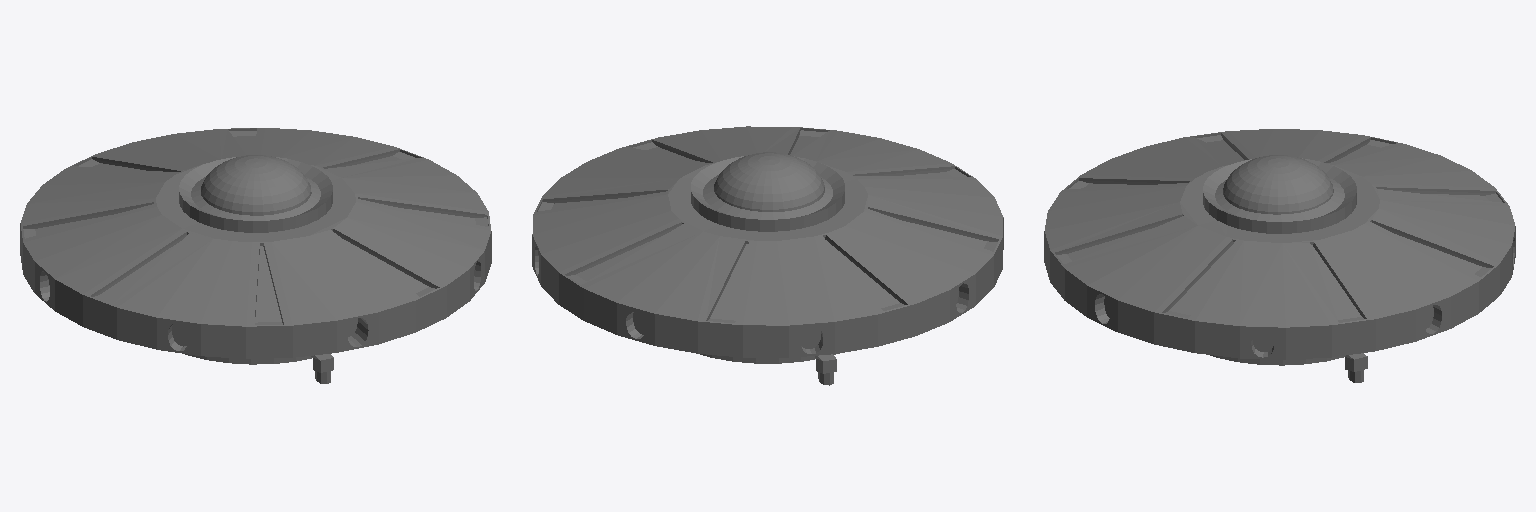
URDF robot description (new_uav):
<?xml version="1.0" ?>

<robot name="new_uav">

  <link name="base_link">

    <inertial>
      <origin rpy="0 0 0" xyz="0 0 0"/>
      <mass value="0.027"/>
      <inertia ixx="1.4e-5" ixy="0.0" ixz="0.0" iyy="1.4e-5" iyz="0.0" izz="2.17e-5"/>
    </inertial>

    <visual>
      <origin rpy="0 0 1.571" xyz="0 0 0"/>
      <geometry>
        <mesh filename="./new_uav.dae" scale="0.1 0.1 0.1"/>
      </geometry>
      <material name="grey">
        <color rgba=".5 .5 .5 1"/>
      </material>
    </visual>

    <collision>
      <origin rpy="0 0 0" xyz="0 0 0"/>
      <geometry>
        <box size="0.09 0.09 0.02"/>
      </geometry>
    </collision>

  </link>

  <link name="prop1_link">
    <inertial>
      <origin rpy="0 0 0" xyz="0.028 0.028 0"/>
      <mass value="0"/>
      <inertia ixx="0" ixy="0" ixz="0" iyy="0" iyz="0" izz="0"/>
    </inertial>
  </link>
  <joint name="prop1_joint" type="fixed">
    <parent link="base_link"/>
    <child link="prop1_link"/>
  </joint>

  <link name="prop2_link">
    <inertial>
      <origin rpy="0 0 0" xyz="-0.028 -0.028 0"/>
      <mass value="0"/>
      <inertia ixx="0" ixy="0" ixz="0" iyy="0" iyz="0" izz="0"/>
    </inertial>
  </link>
  <joint name="prop2_joint" type="fixed">
    <parent link="base_link"/>
    <child link="prop2_link"/>
  </joint>

  <link name="prop3_link">
    <inertial>
      <origin rpy="0 0 0" xyz="-0.028 0.028 0"/>
      <mass value="0"/>
      <inertia ixx="0" ixy="0" ixz="0" iyy="0" iyz="0" izz="0"/>
    </inertial>
  </link>
  <joint name="prop3_joint" type="fixed">
    <parent link="base_link"/>
    <child link="prop3_link"/>
  </joint>

  <link name="prop4_link">
    <inertial>
      <origin rpy="0 0 0" xyz="0.028 -0.028 0"/>
      <mass value="0"/>
      <inertia ixx="0" ixy="0" ixz="0" iyy="0" iyz="0" izz="0"/>
    </inertial>
  </link>
  <joint name="prop4_joint" type="fixed">
    <parent link="base_link"/>
    <child link="prop4_link"/>
  </joint>

  <link name="center_of_mass_link">
    <inertial>
      <origin rpy="0 0 0" xyz="0 0 0"/>
      <mass value="0"/>
      <inertia ixx="0" ixy="0" ixz="0" iyy="0" iyz="0" izz="0"/>
    </inertial>
  </link>
  <joint name="center_of_mass_joint" type="fixed">
    <parent link="base_link"/>
    <child link="center_of_mass_link"/>
  </joint>

</robot>

--- What the picture shows (computed from the rendered views, not written in the file) ---
Views: 3 orthographic renders of the robot side by side, from view 1: azimuth 30°, elevation 25°; view 2: azimuth 150°, elevation 25°; view 3: azimuth 270°, elevation 25°.
Robot: new_uav — 6 links, 5 joints (5 fixed); root link base_link; default pose: all joints at 0.
Links seen in each view (by area): view 1: base_link; view 2: base_link; view 3: base_link.
Link boxes in pixels (box(x1,y1,x2,y2)): base_link: box(20, 128, 491, 383); base_link: box(532, 126, 1003, 385); base_link: box(1044, 129, 1515, 382).
Bounding box of the posed robot: 5.6 × 5.6 × 2.1 m (x, y, z).
Meshes: 1 distinct files referenced, 1 mesh visuals loaded (1 Collada DAE).